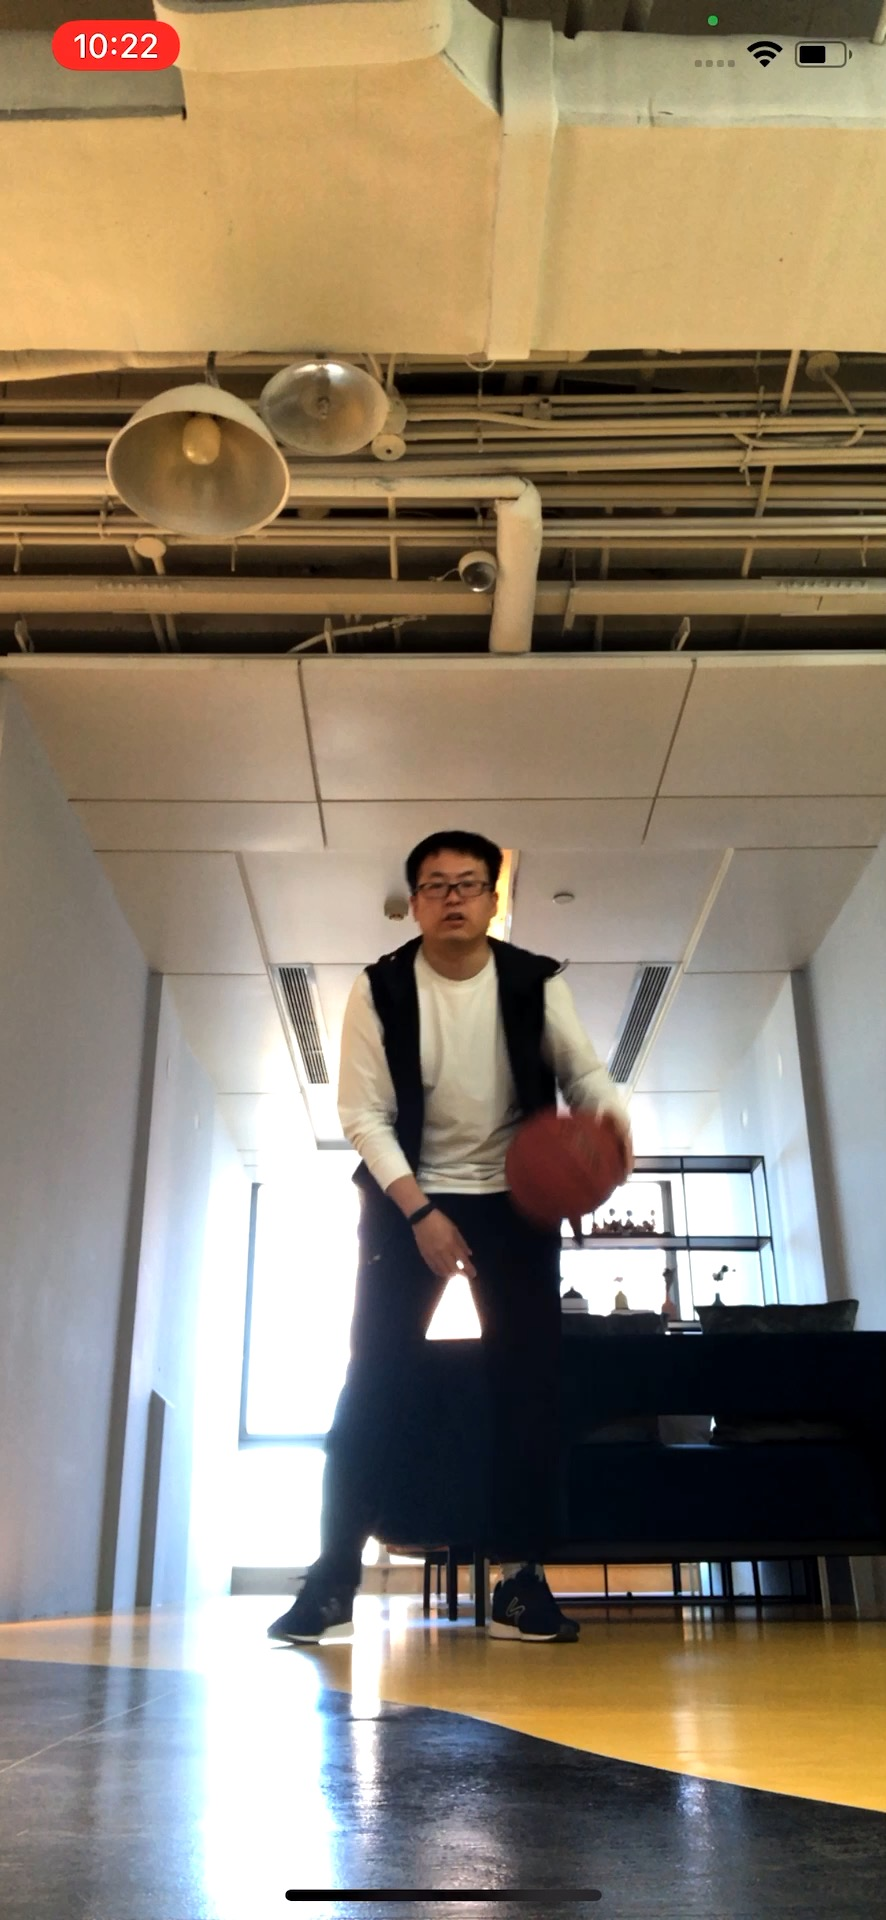ball: (508, 1114, 623, 1213)
